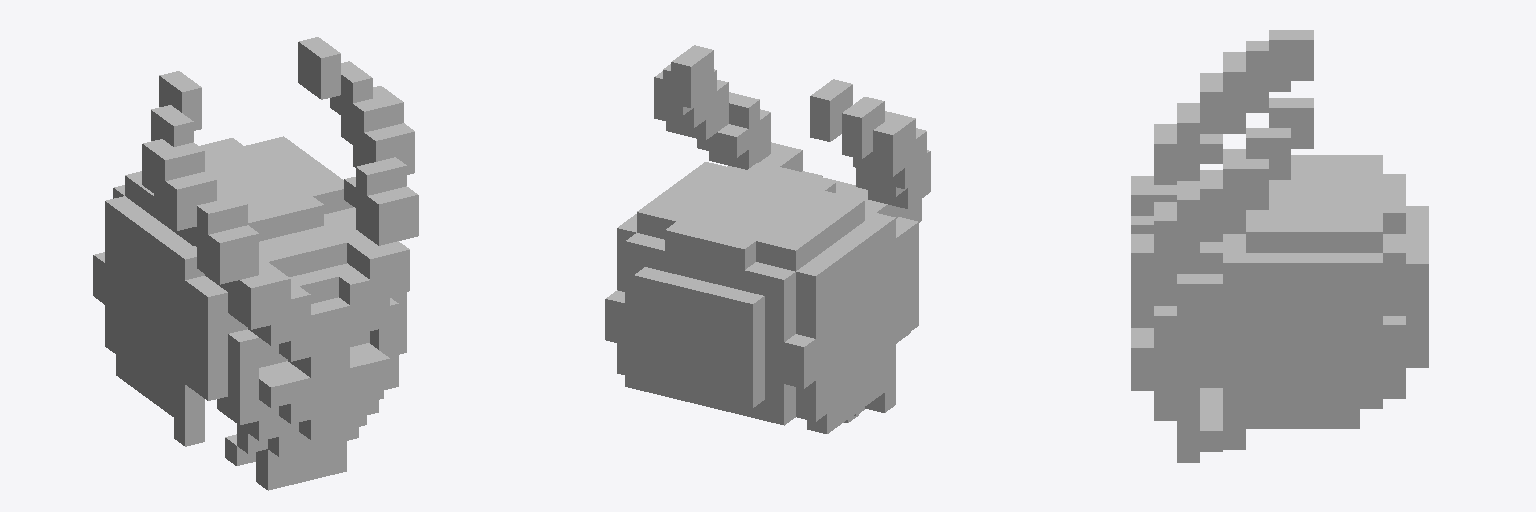
File: helm.obj
3 renders of one model, left to right at view 1: azimuth 30°, elevation 25°; view 2: azimuth 150°, elevation 25°; view 3: azimuth 270°, elevation 25°, orthographic.
Visible parts, largest first — view 1: object 1; view 2: object 1; view 3: object 1.
Part boxes in pixels (x1,y1,x2,y2): object 1: (93,37,418,490); object 1: (605,45,930,433); object 1: (1131,30,1428,462).
Size of the model in its own units: 1.2 by 1.8 by 1.3.